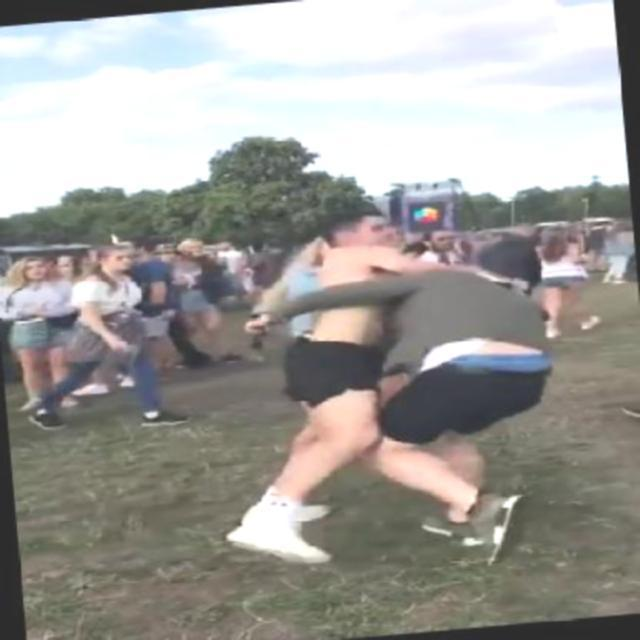fight: (239, 196, 570, 578)
